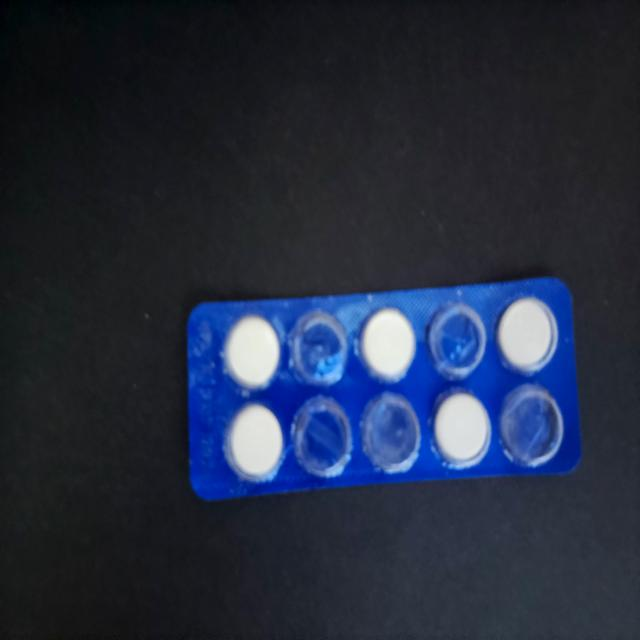defect: (497, 380, 565, 470), (288, 395, 354, 481), (359, 390, 423, 476), (424, 300, 489, 383), (286, 309, 348, 390)
